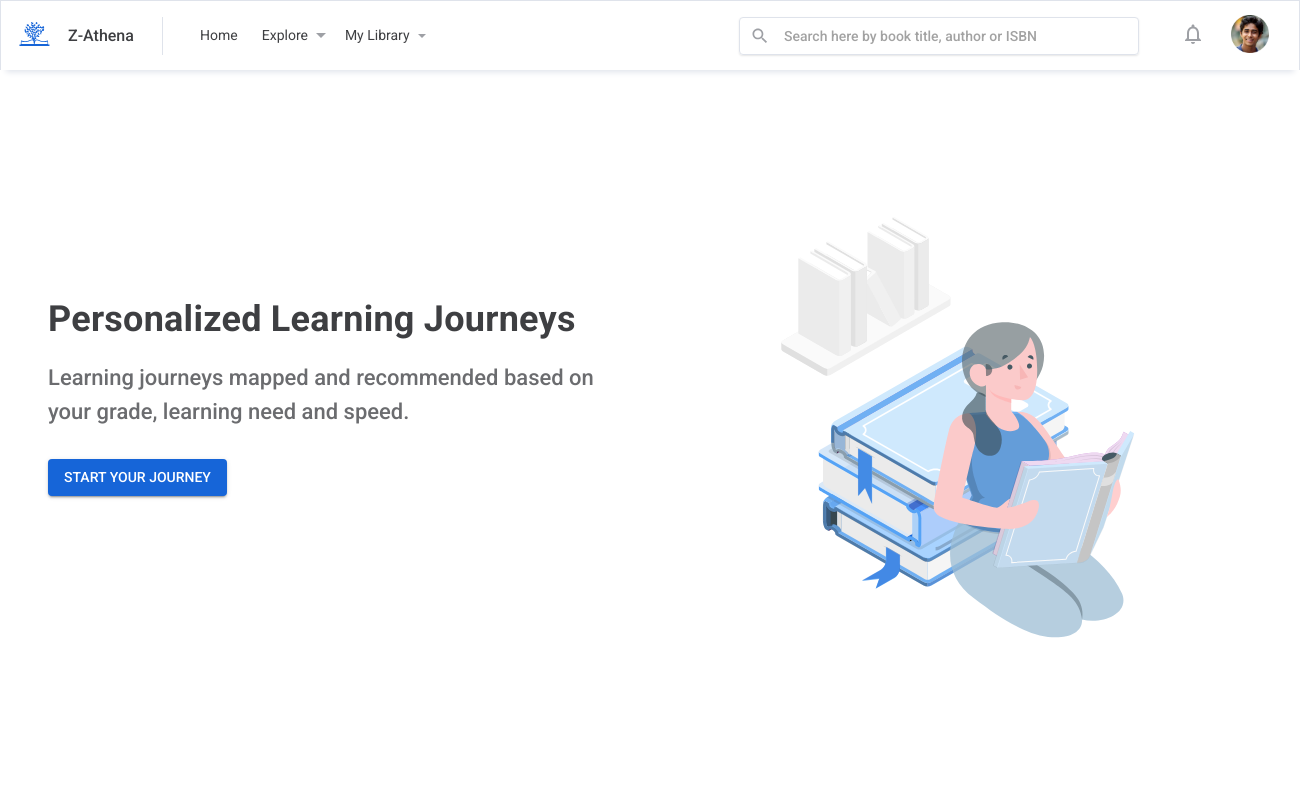
it: Home page › render the Home page › on click explore button in header
Click the element with test id "explore-button" at [292, 36], box [260, 25, 324, 47]
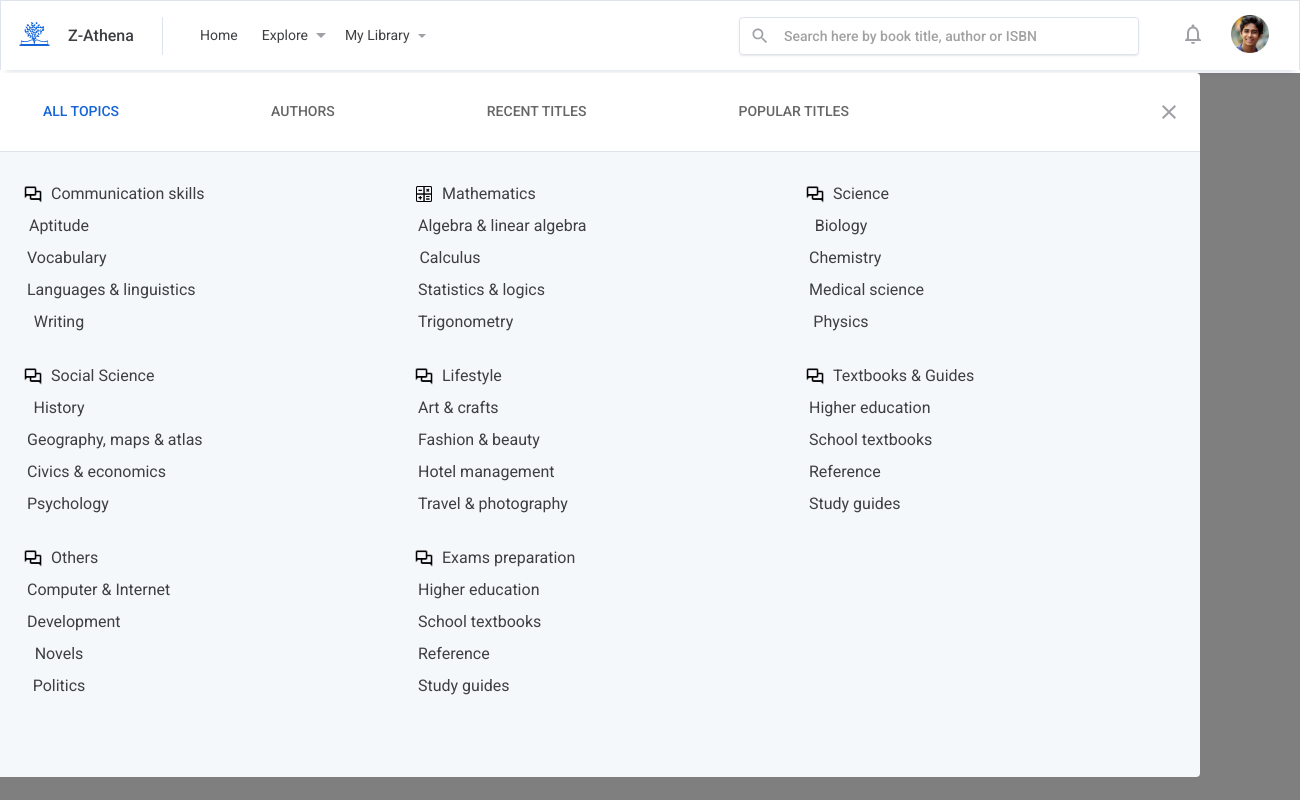
Expected: the element with test id "explore-menu" is shown
